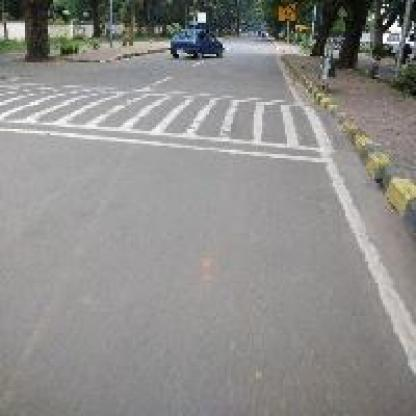Speed Bump: (2, 79, 325, 162)
